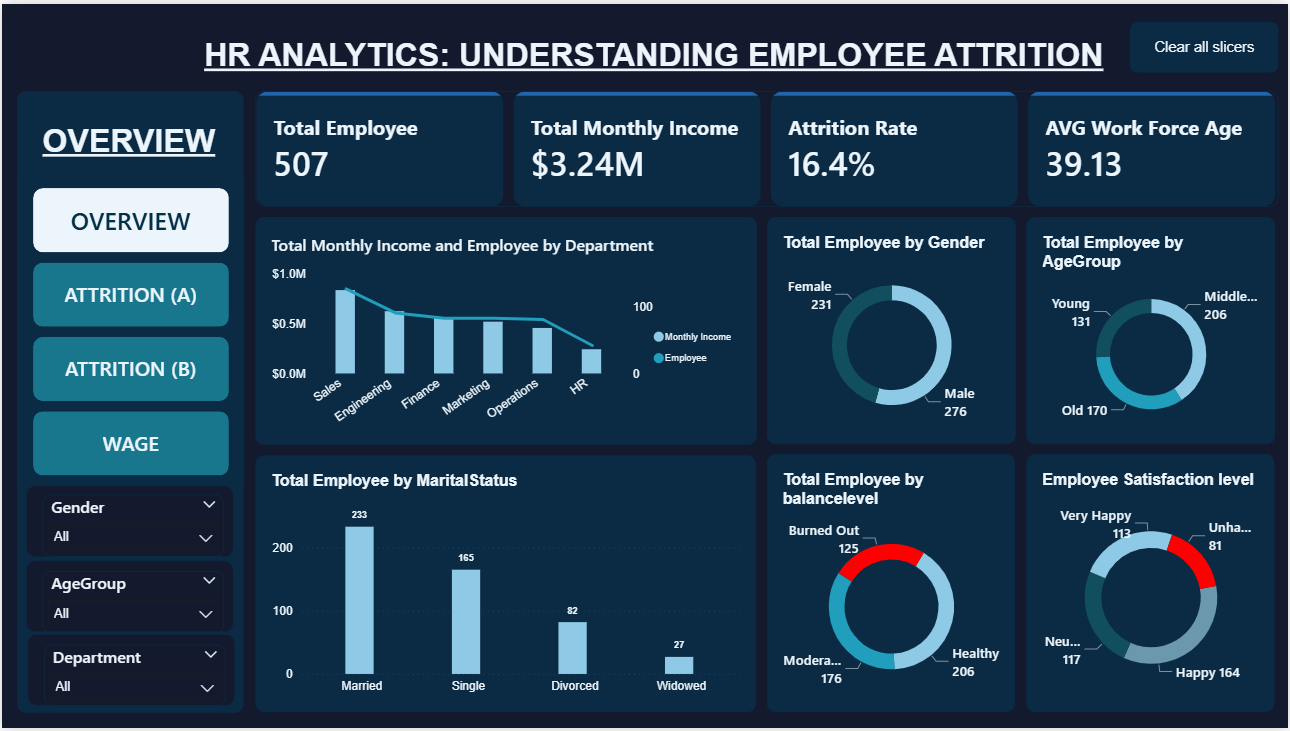

The page's visual inventory and layout, read from the dashboard file:
{"tool":"powerbi","page":{"name":"OVERVIEW","canvas":[1280,720],"ordinal":0},"visuals":[{"type":"cardVisual","fields":{"Data":["measure.Total Employee","measure.Total Monthly Income","measure.Attrition Rate","measure.AVG Work Force Age"]},"box":[252.3,86.5,1018.2,115.5],"z":0},{"type":"donutChart","fields":{"Category":["hr_attrition employee.AgeGroup"],"Y":["CountNonNull(hr_attrition employee.EmployeeID)"]},"box":[1020.1,211.7,247.2,226.1],"z":1000},{"type":"donutChart","fields":{"Y":["CountNonNull(hr_attrition employee.EmployeeID)"],"Category":["hr_attrition employee.Gender"]},"box":[761.4,211.7,247.2,226.1],"z":2000},{"type":"clusteredColumnChart","fields":{"Category":["hr_attrition employee.MaritalStatus"],"Y":["CountNonNull(hr_attrition employee.EmployeeID)"]},"box":[252.1,448.9,497.7,255.4],"z":3000},{"type":"lineClusteredColumnComboChart","title":"Total Monthly Income and Employee by Department","fields":{"Category":["hr_attrition employee.Department"],"Y":["Sum(hr_attrition compensation.MonthlyIncome)"],"Y2":["measure.Total Employee"]},"box":[251.7,211.7,498.3,226.7],"z":4000},{"type":"donutChart","title":"Employee Satisfaction level","fields":{"Y":["CountNonNull(hr_attrition employee.EmployeeID)"],"Category":["hr_attrition compensation.satisfactionlevel"]},"box":[1020,448.3,246.7,256.7],"z":5000},{"type":"donutChart","fields":{"Y":["CountNonNull(hr_attrition employee.EmployeeID)"],"Category":["hr_attrition compensation.balancelevel"]},"box":[761.7,448.3,246.7,256.7],"z":6000},{"type":"shape","box":[15,86.7,225,618.3],"z":7000},{"type":"pageNavigator","box":[14.6,167.5,226.1,320.4],"z":8000},{"type":"textbox","box":[40,118.3,180,68.3],"z":9000},{"type":"textbox","box":[91.7,33.3,1115,70],"z":10000},{"type":"shape","box":[24.4,478.9,206.6,71.6],"z":11000},{"type":"slicer","fields":{"Values":["hr_attrition employee.Gender"]},"box":[40.7,488.7,180.5,61.8],"z":12000},{"type":"shape","box":[24.6,554,206.6,71.6],"z":13000},{"type":"slicer","fields":{"Values":["hr_attrition employee.AgeGroup"]},"box":[40.8,563.8,180.5,61.8],"z":14000},{"type":"shape","box":[24.9,627.1,206.6,71.6],"z":15000},{"type":"slicer","fields":{"Values":["hr_attrition employee.Department"]},"box":[41.1,636.9,180.5,61.8],"z":16000},{"type":"actionButton","box":[1122.3,17.9,148,50.4],"z":17000}]}

Visuals, with their boxes in screenshot pixels (x1, y1, x2, y2), scaled from the page's 1280x720 canvas onto the 1290x731 screenshot:
cardVisual - measure.Total Employee x measure.Total Monthly Income: rect(254, 88, 1280, 205)
donutChart - hr_attrition employee.AgeGroup x CountNonNull(hr_attrition employee.EmployeeID): rect(1028, 215, 1277, 444)
donutChart - CountNonNull(hr_attrition employee.EmployeeID) x hr_attrition employee.Gender: rect(767, 215, 1016, 444)
clusteredColumnChart - hr_attrition employee.MaritalStatus x CountNonNull(hr_attrition employee.EmployeeID): rect(254, 456, 756, 715)
"Total Monthly Income and Employee by Department" lineClusteredColumnComboChart: rect(254, 215, 756, 445)
"Employee Satisfaction level" donutChart: rect(1028, 455, 1277, 716)
donutChart - CountNonNull(hr_attrition employee.EmployeeID) x hr_attrition compensation.balancelevel: rect(768, 455, 1016, 716)
shape: rect(15, 88, 242, 716)
pageNavigator: rect(15, 170, 243, 495)
textbox: rect(40, 120, 222, 189)
textbox: rect(92, 34, 1216, 105)
shape: rect(25, 486, 233, 559)
slicer - hr_attrition employee.Gender: rect(41, 496, 223, 559)
shape: rect(25, 562, 233, 635)
slicer - hr_attrition employee.AgeGroup: rect(41, 572, 223, 635)
shape: rect(25, 637, 233, 709)
slicer - hr_attrition employee.Department: rect(41, 647, 223, 709)
actionButton: rect(1131, 18, 1280, 69)
